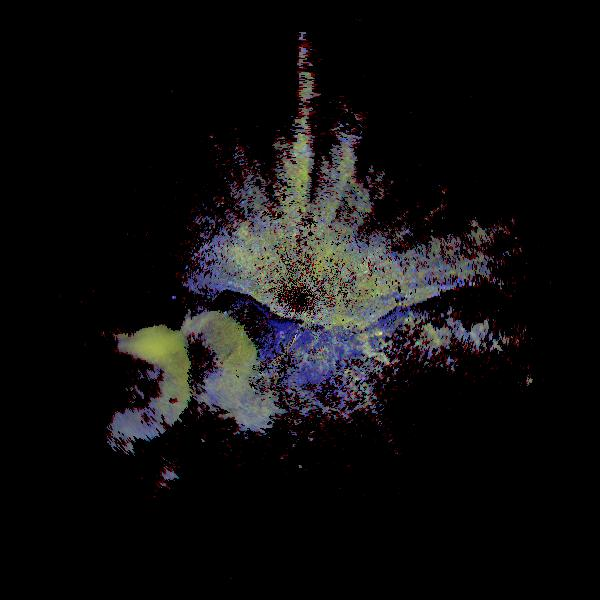roost: (131, 300, 266, 435), (68, 316, 203, 451), (327, 103, 429, 205), (114, 428, 186, 500)
